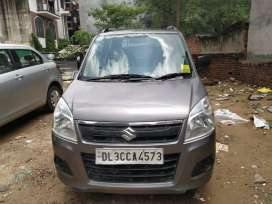license_plate: (95, 147, 167, 165)
